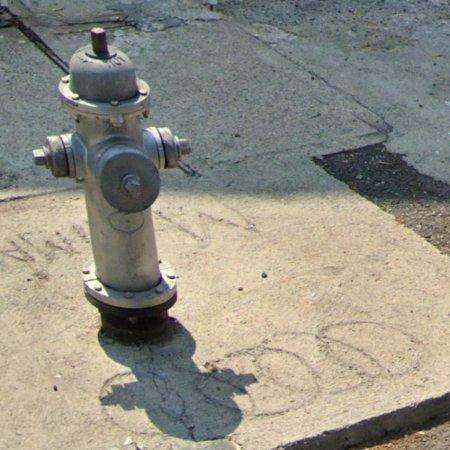a fire hydrant: (33, 27, 191, 338)
